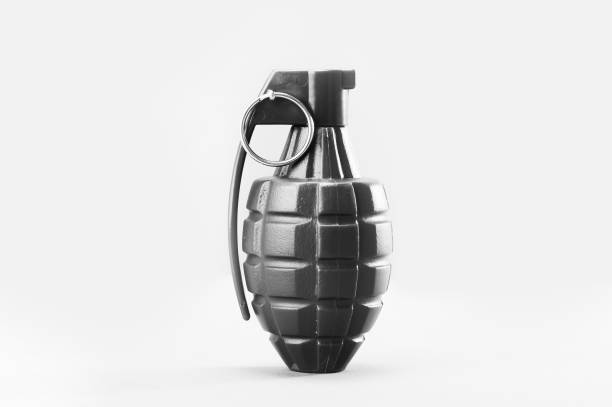e1: (225, 65, 394, 379)
